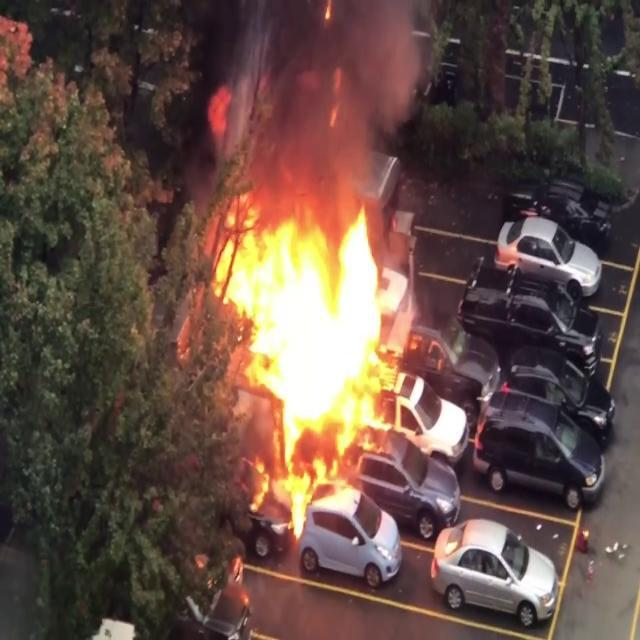Fire: (201, 196, 451, 526)
Smoke: (201, 0, 434, 212)
